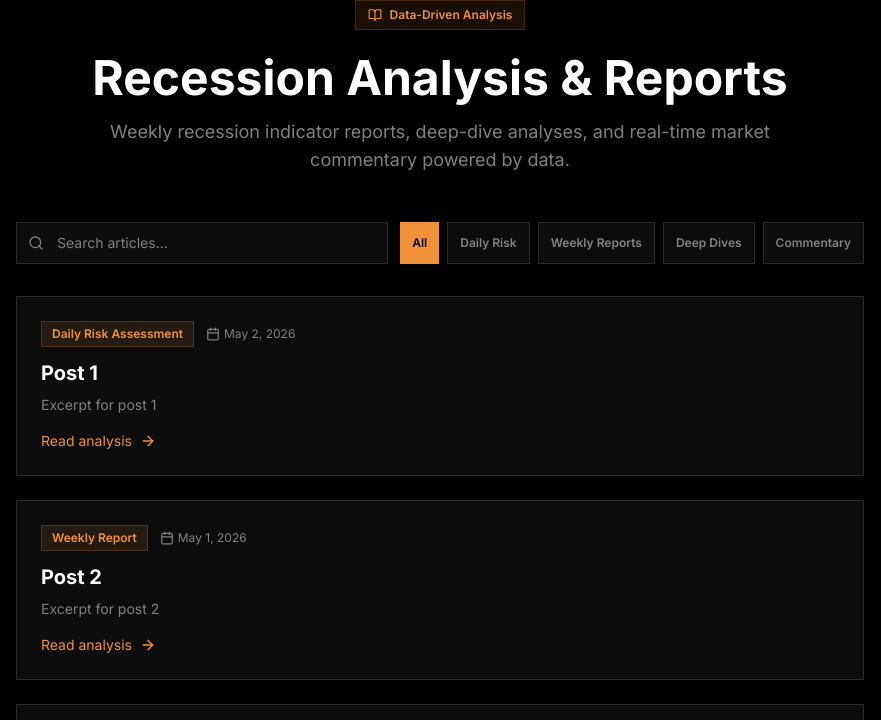
Test: BlogList › should show empty state when no results
Type "nonexistent" into the field with placeholder "Search articles..." at (202, 243), box [16,222,388,264]
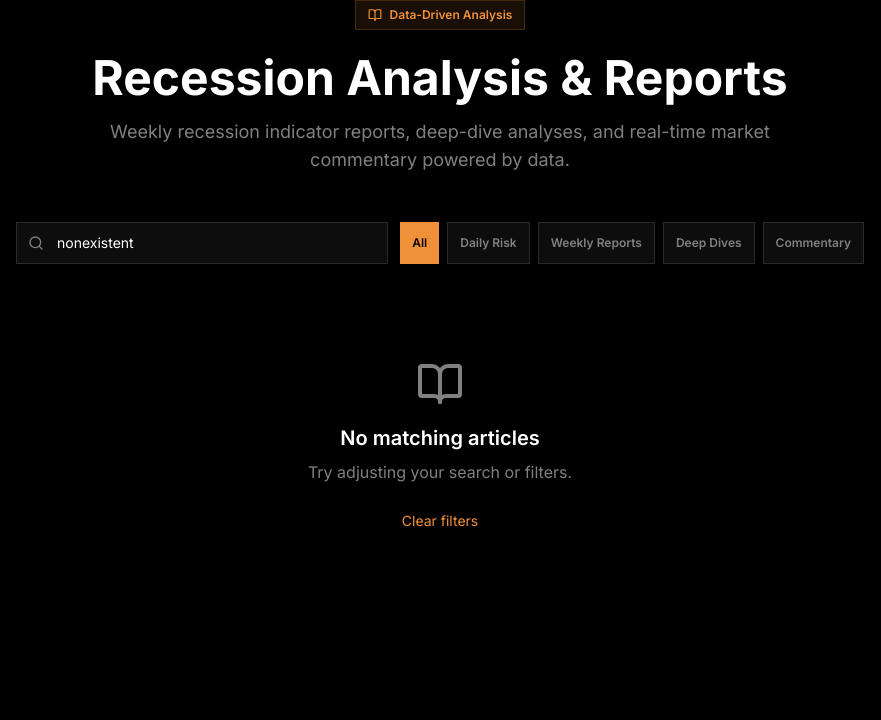
Expected: the heading "No matching articles" is shown, [340,426,540,450]
